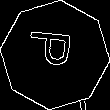P_E: (28, 34, 82, 76)
